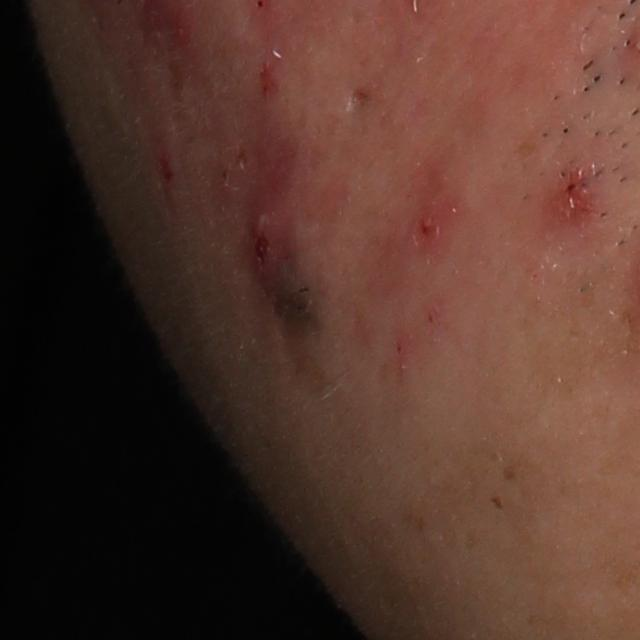atrophic_scar: (349, 87, 373, 112)
papule: (244, 200, 290, 292), (538, 163, 600, 223), (256, 58, 282, 97)
